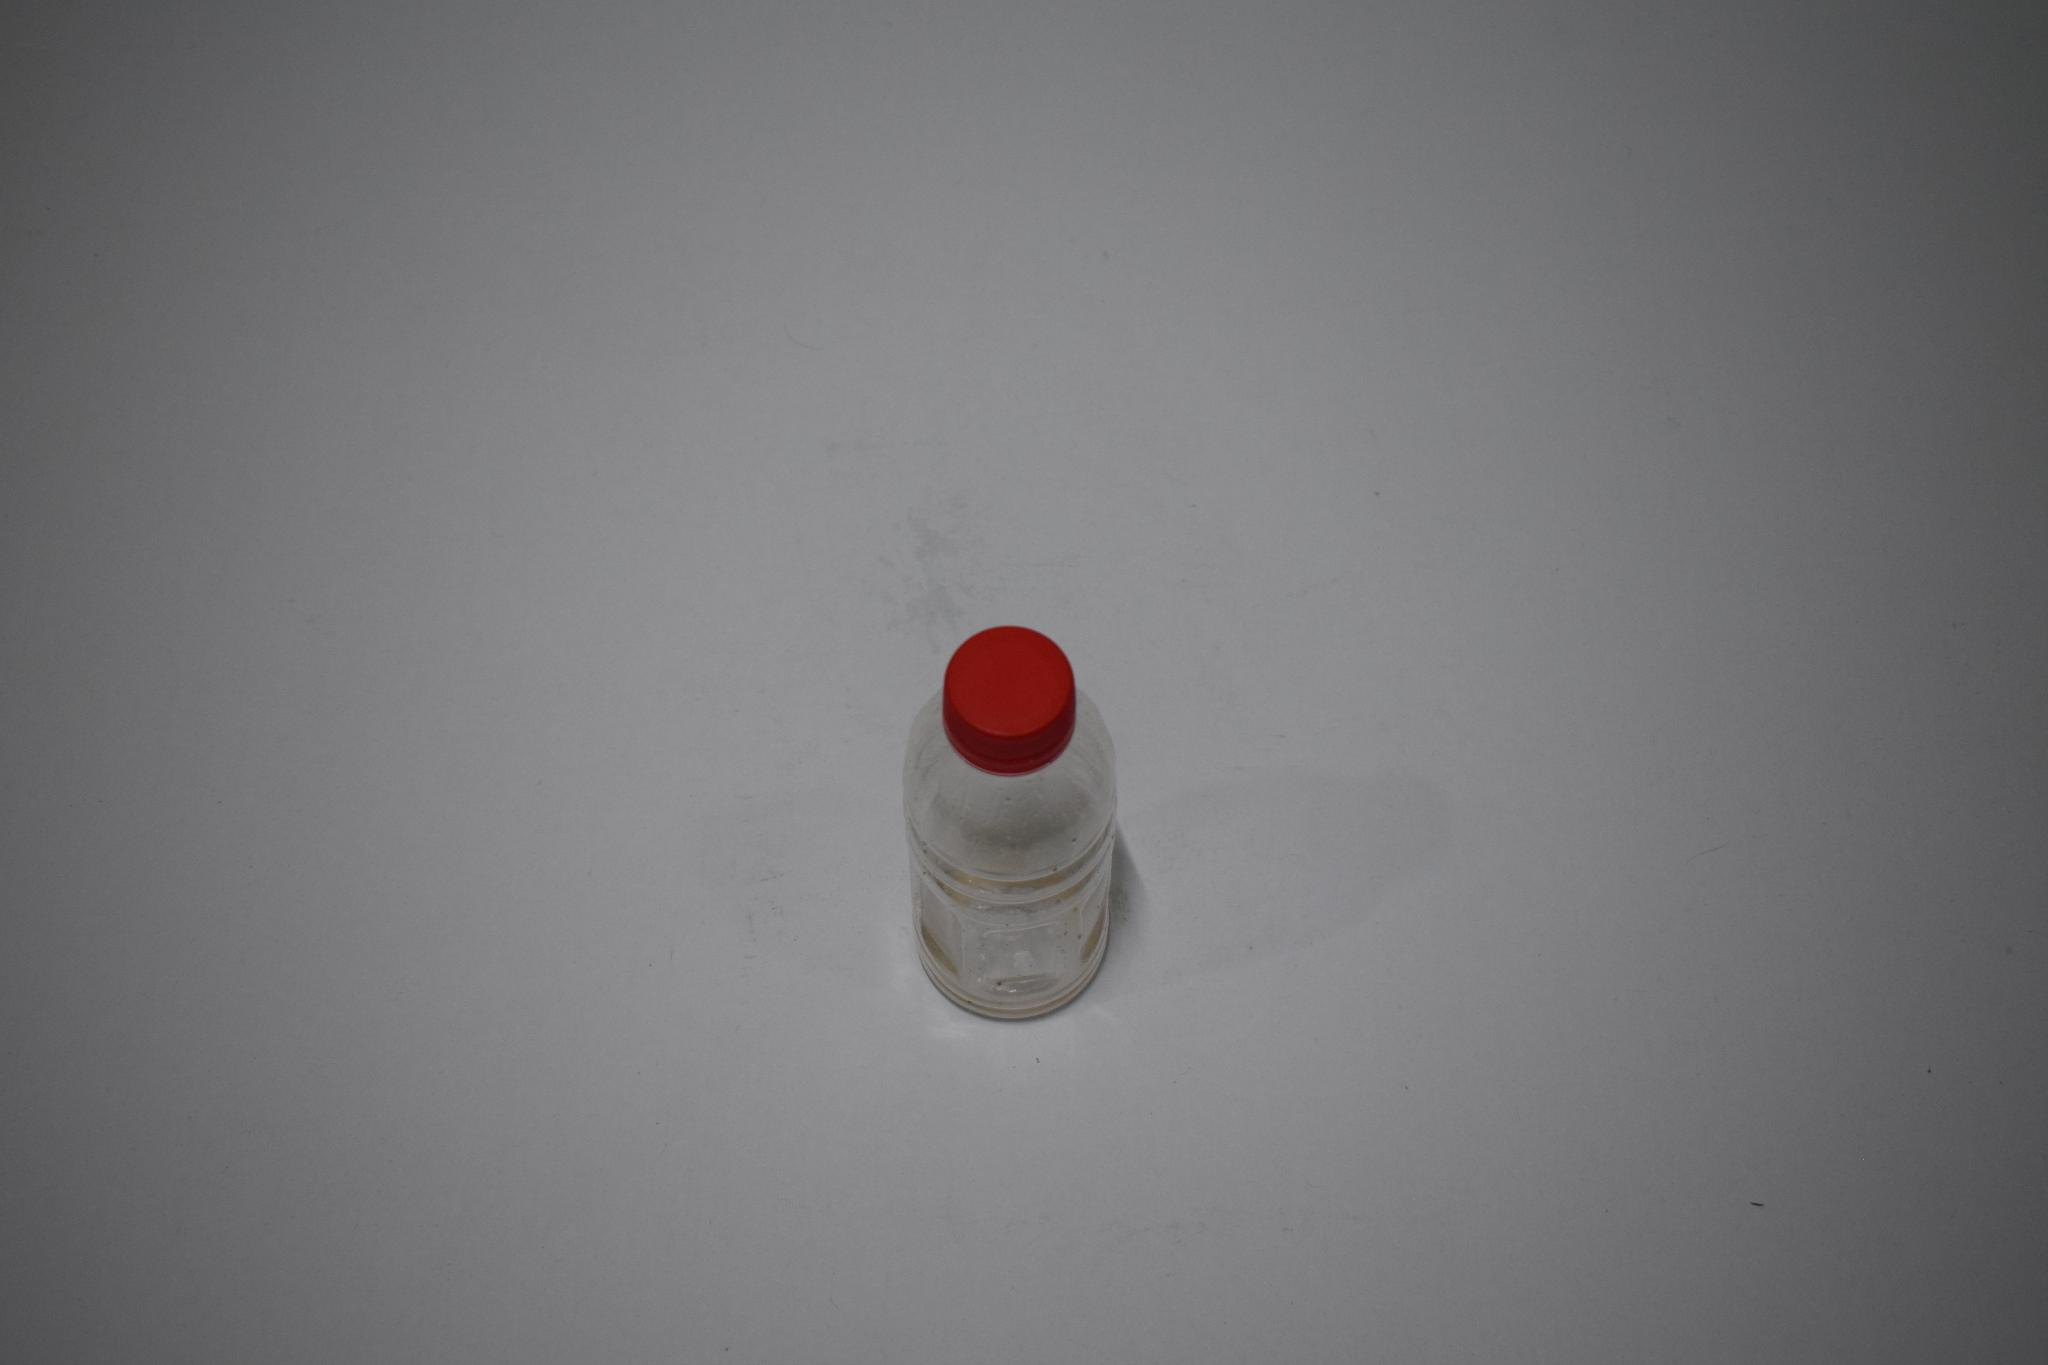bottle: (897, 615, 1122, 1027)
